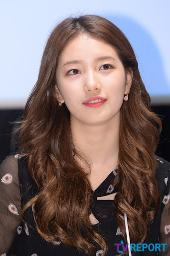face: (60, 40, 124, 122)
